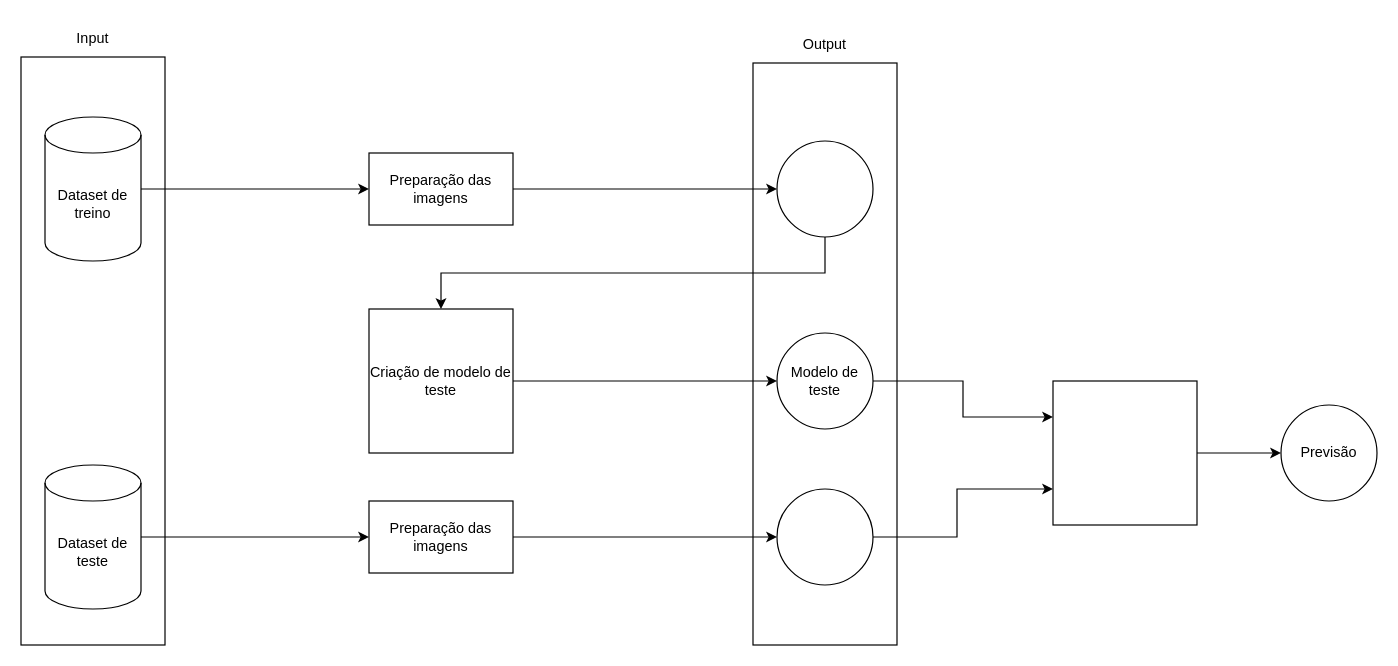
Image size: 1398x666. Some labels were removed from this diagram. The shapes that lost their labels are listed below. From the top down, each one's box as (x1, y1, x2, y2) in pixels, then its label:
(776, 140, 873, 237): Data de Treino
(1052, 380, 1197, 525): Usando o modelo de teste para avaliar a data de teste
(776, 488, 873, 585): Data de Teste
